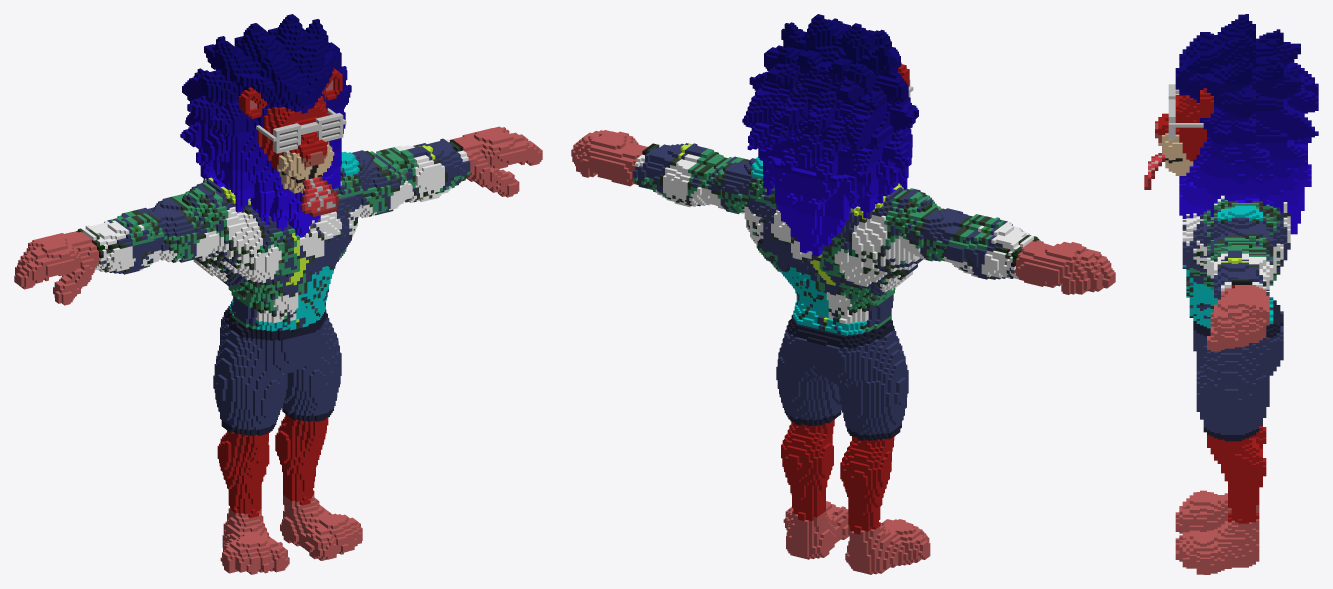
The picture shows the model from 3 angles, left to right: view 1: azimuth 30°, elevation 25°; view 2: azimuth 150°, elevation 25°; view 3: azimuth 270°, elevation 25°; orthographic projection. The views are drawn at different scales.
Visible parts, largest first — view 1: meat; view 2: meat; view 3: meat.
Part boxes in pixels (<box>): meat: <box>14,14,542,574</box>; meat: <box>571,14,1115,574</box>; meat: <box>1144,14,1318,574</box>.
Size of the model in its own units: 17.2 by 16.5 by 5.
5 materials, 5 textured.
